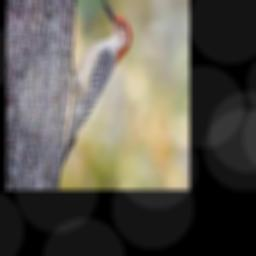Woodpecker: (60, 0, 131, 168)
